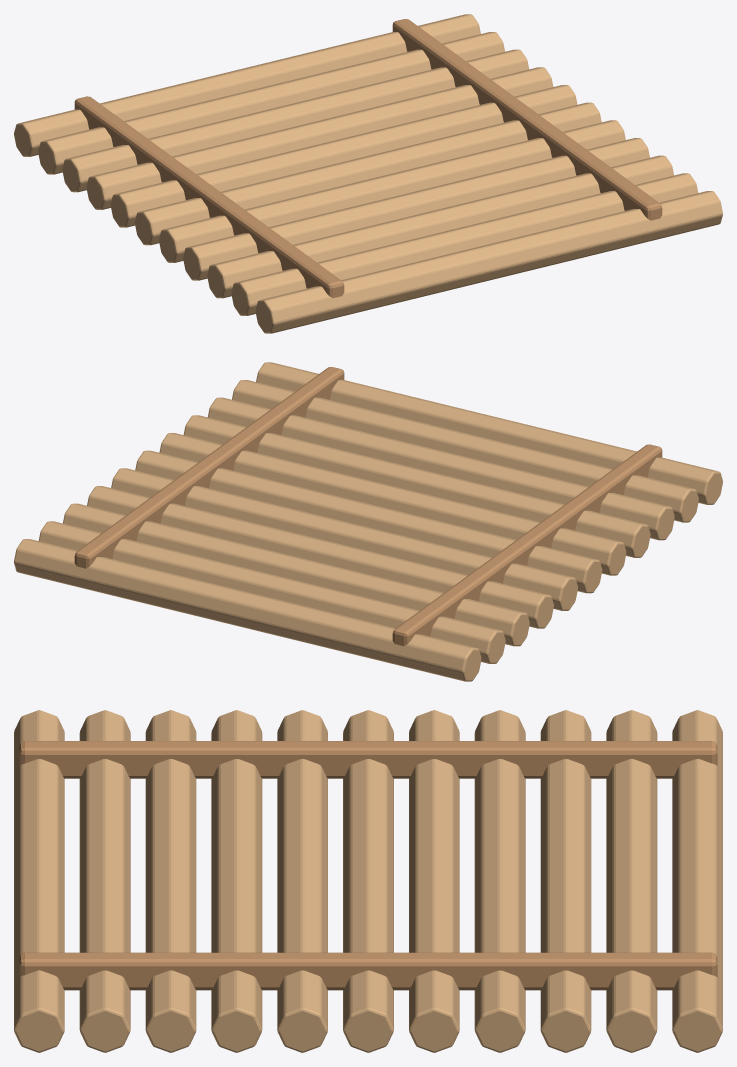
3 renders of one model, top to bottom at view 1: azimuth 30°, elevation 25°; view 2: azimuth 150°, elevation 25°; view 3: azimuth 270°, elevation 25°, orthographic. The views are drawn at different scales.
Visible parts, largest first — view 1: bambooRod01, bambooRod06, bambooRod10, bambooRod03, bambooRod07, bambooRod08, bambooRod09, bambooRod11, bambooRod02, bambooRod04, bambooRod05, bindingCord (+1 smaller); view 2: bambooRod11, bambooRod06, bambooRod02, bambooRod05, bambooRod09, bambooRod03, bambooRod04, bambooRod01, bambooRod08, bambooRod10, bambooRod07, bindingCord (+1 smaller); view 3: bindingCord.001, bindingCord, bambooRod01, bambooRod11, bambooRod02, bambooRod10, bambooRod04, bambooRod08, bambooRod03, bambooRod09, bambooRod05, bambooRod07 (+1 smaller).
Part boxes in pixels (box(x1,y1,x2,y2)): bambooRod01: box(255, 191, 722, 333); bambooRod06: box(134, 102, 601, 245); bambooRod10: box(38, 32, 504, 174); bambooRod03: box(207, 155, 673, 298); bambooRod07: box(110, 85, 577, 227); bambooRod08: box(86, 67, 553, 209); bambooRod09: box(62, 49, 528, 192); bambooRod11: box(14, 14, 480, 156); bambooRod02: box(231, 173, 698, 315); bambooRod04: box(183, 138, 649, 280); bambooRod05: box(159, 120, 625, 262); bindingCord: box(74, 96, 344, 298); bambooRod11: box(14, 539, 481, 681); bambooRod06: box(135, 450, 602, 593); bambooRod02: box(232, 380, 698, 522); bambooRod05: box(159, 433, 626, 575); bambooRod09: box(63, 503, 529, 646); bambooRod03: box(208, 397, 674, 540); bambooRod04: box(183, 415, 650, 557); bambooRod01: box(256, 362, 722, 504); bambooRod08: box(87, 486, 553, 628); bambooRod10: box(38, 521, 505, 663); bambooRod07: box(111, 468, 577, 610); bindingCord: box(392, 444, 662, 646); bindingCord.001: box(19, 952, 717, 990); bindingCord: box(19, 741, 717, 778); bambooRod01: box(14, 710, 64, 1052); bambooRod11: box(672, 710, 722, 1052); bambooRod02: box(79, 710, 130, 1052); bambooRod10: box(606, 710, 657, 1052); bambooRod04: box(211, 710, 262, 1052); bambooRod08: box(474, 710, 525, 1052); bambooRod03: box(145, 710, 196, 1052); bambooRod09: box(540, 710, 591, 1052); bambooRod05: box(277, 710, 327, 1052); bambooRod07: box(409, 710, 459, 1052).
Size of the model in its own units: 0.72 by 0.06 by 0.72.
